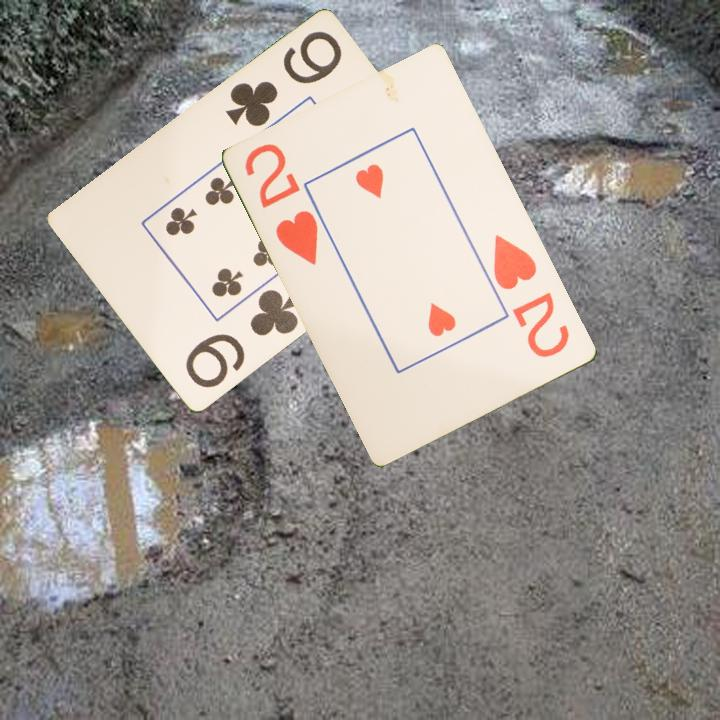2h: (490, 231, 573, 361), (241, 139, 322, 269)
9c: (181, 286, 306, 392), (222, 27, 346, 131)
